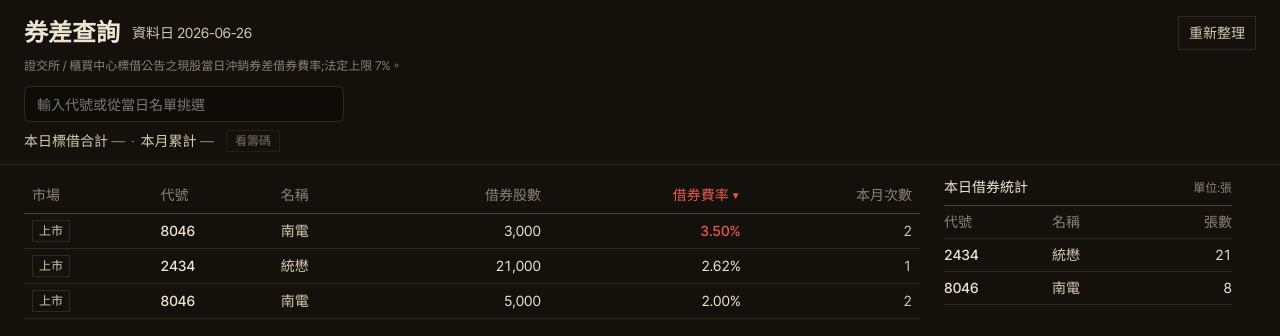
it: BorrowFeePage 單檔篩選 › 清除鈕回全表
This screenshot has width=1280, height=336.
In the field with test id "borrow-fee-stock-filter": (184, 104) [24,86,344,122], type "8046"
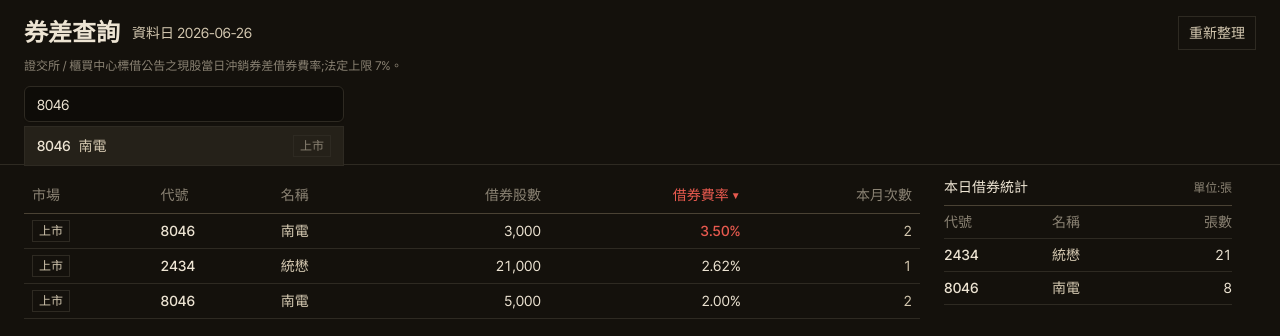
Press the mouse on the option "8046 南電 上市": (54, 146) [25,127,343,165]
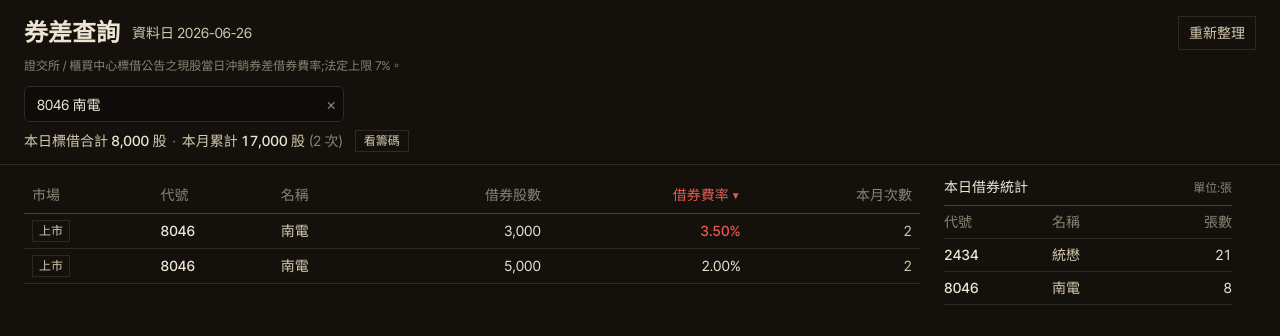
Click the button with test id "stock-filter-clear": (331, 104) [326,92,336,116]
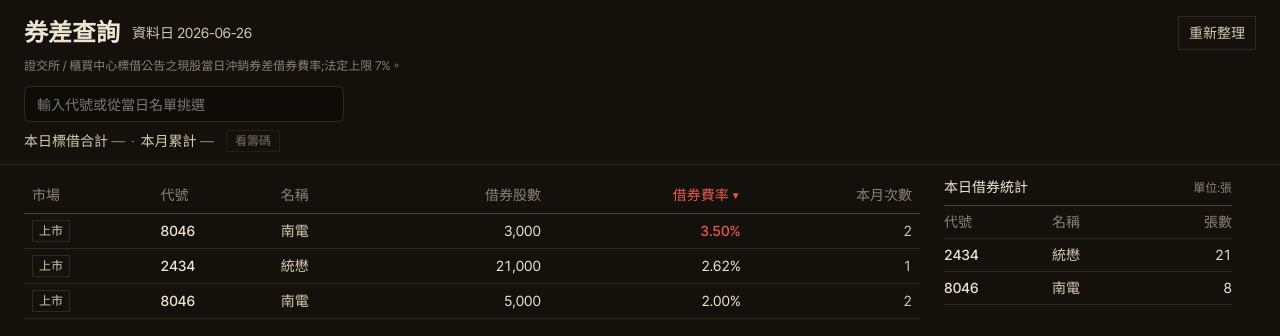
Result: the number of rows with test id "fee-row" is 3 at [24,214,920,248]; [24,248,920,284]; [24,284,920,318]
